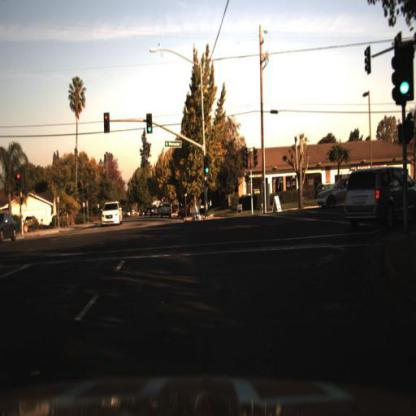car: (348, 166, 416, 232), (317, 173, 348, 210), (99, 197, 126, 228), (1, 212, 18, 243), (22, 214, 43, 234), (149, 200, 162, 221), (161, 203, 175, 220)
trafficLight-Green: (397, 43, 413, 99), (146, 114, 154, 138), (204, 155, 213, 176)
trafficLight-RedLeft: (16, 171, 24, 194), (104, 111, 112, 134), (16, 171, 23, 194)
